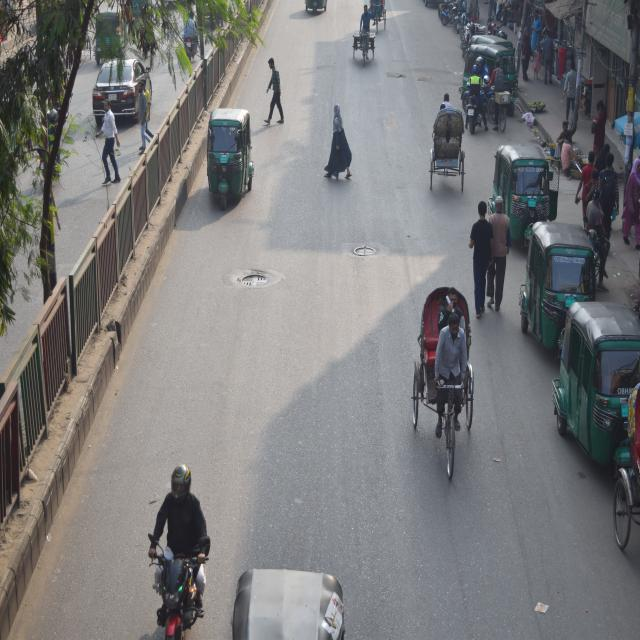car: (91, 54, 156, 130)
motorbike: (138, 514, 216, 640), (459, 64, 488, 131), (584, 199, 613, 262), (435, 0, 470, 35)
